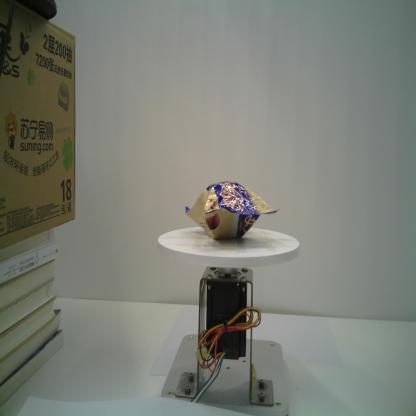Dessert: (185, 181, 279, 240)
